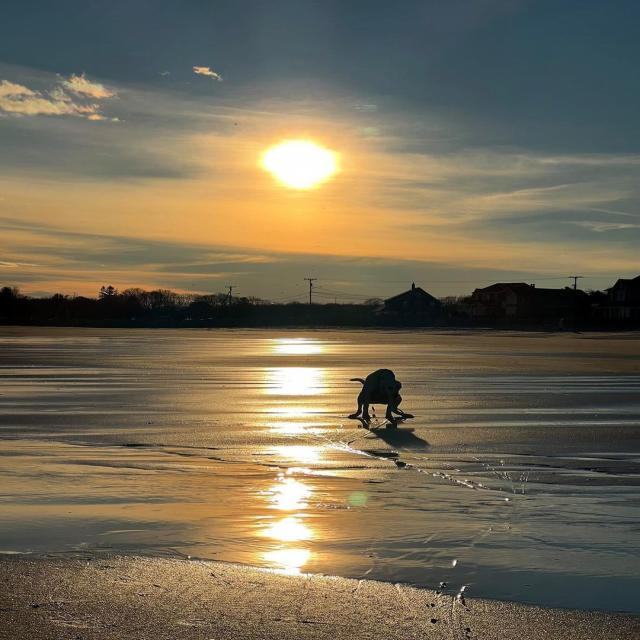squatting: (344, 364, 417, 429)
